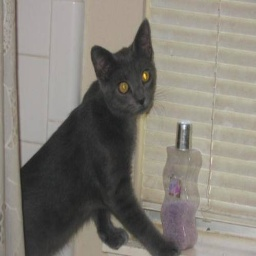cat: (11, 23, 187, 255)
